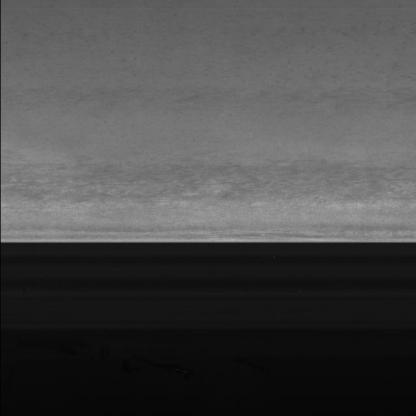silk_spot: (41, 147, 355, 208)
